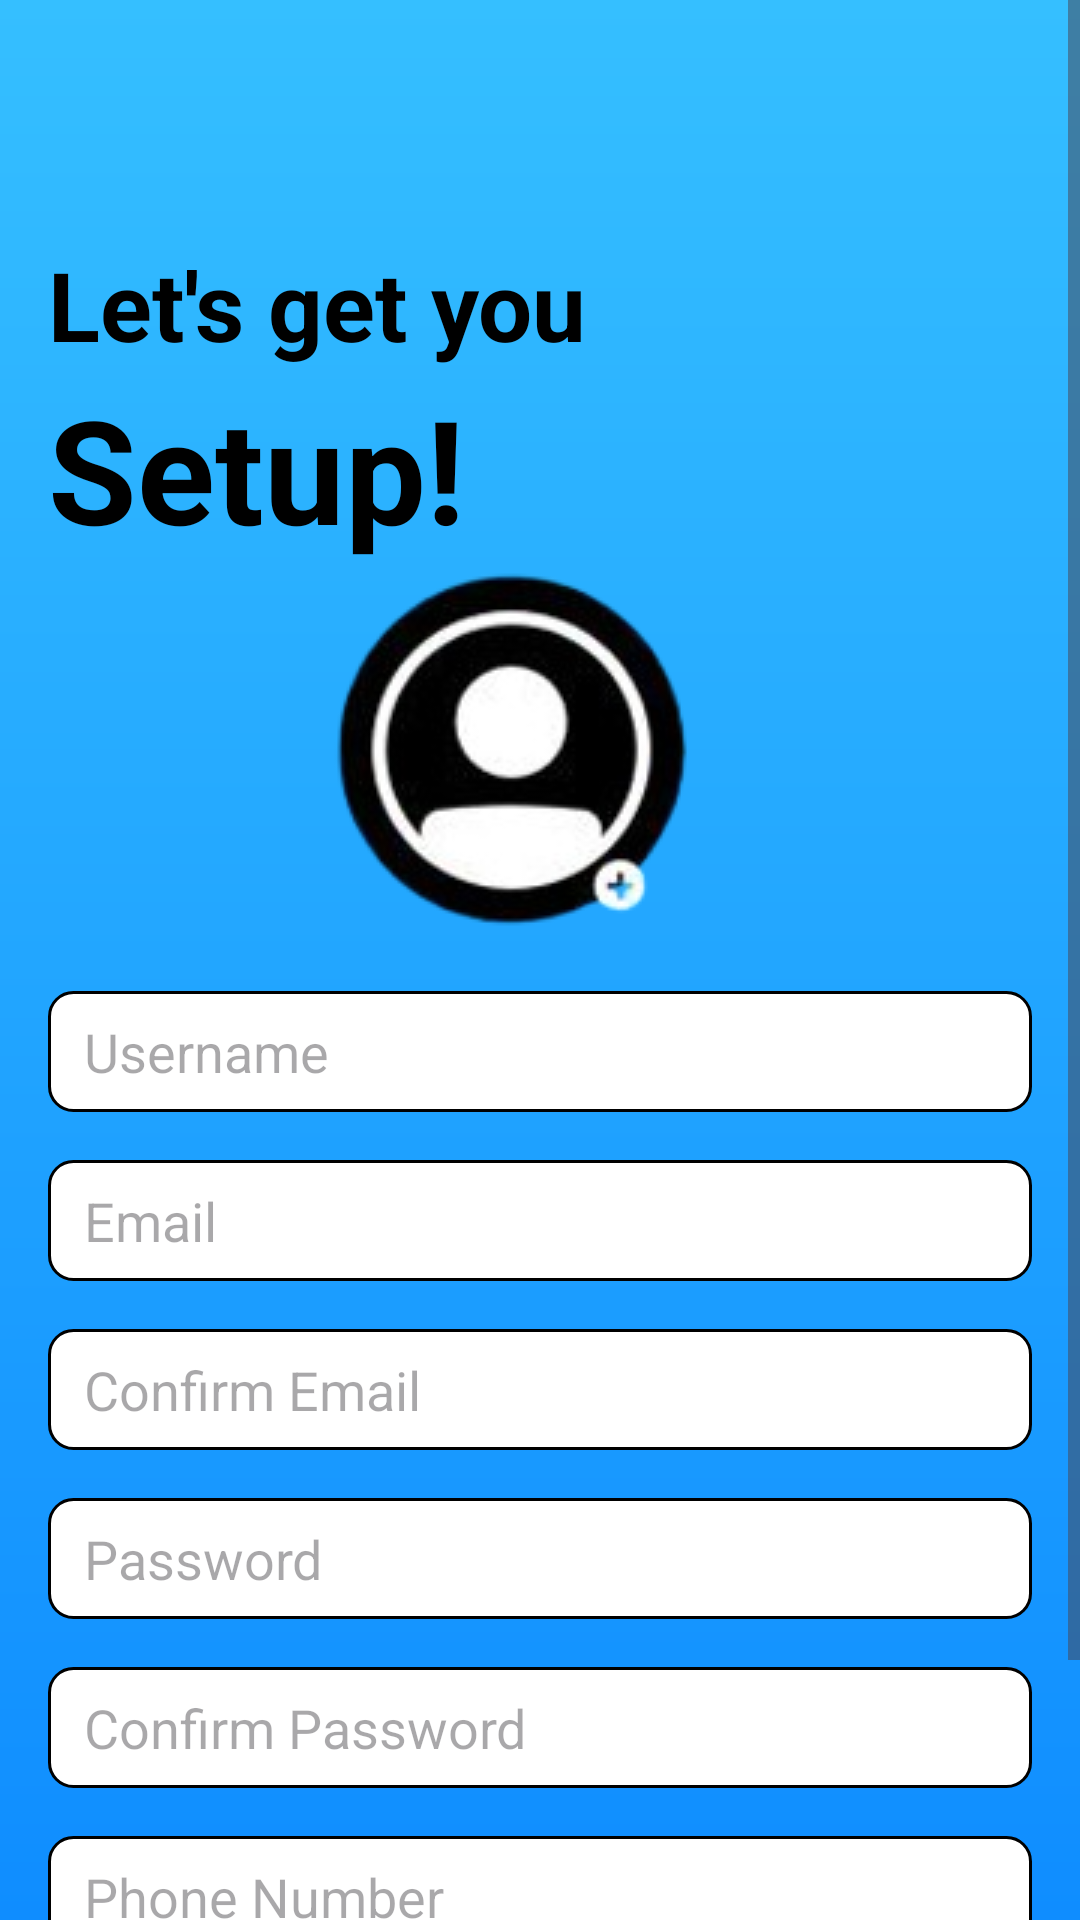

Named icons in this screenshot (1080x1920) and their centers, (x=x, y=y):
profile: (x=512, y=749)
